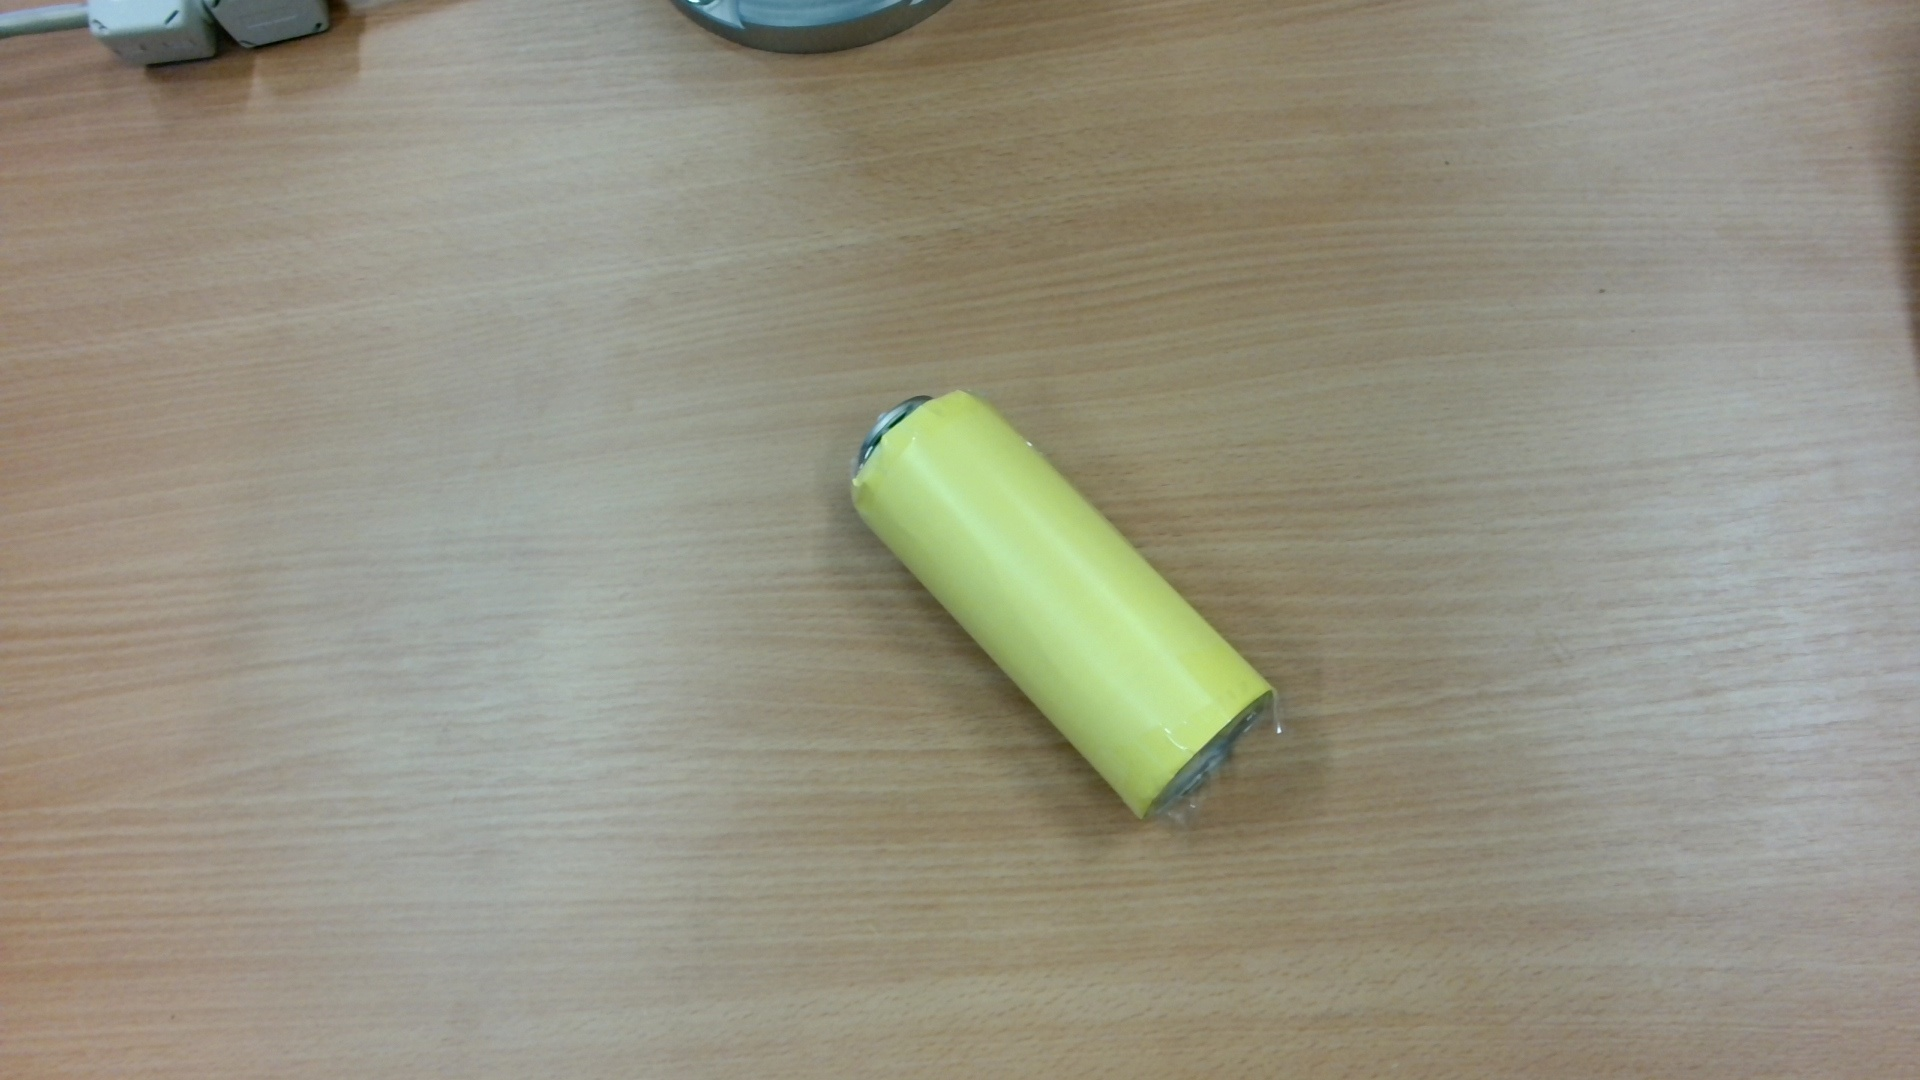Cylinder: (843, 375, 1296, 844)
